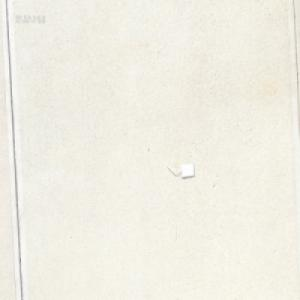LuggageTag: (166, 161, 194, 178)
